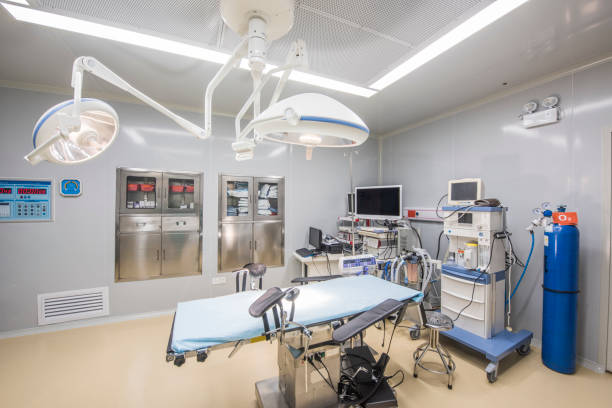bedside_monitor: (354, 185, 403, 219), (447, 182, 485, 208)
breathing_tube: (390, 248, 433, 295)
cabinet: (114, 171, 203, 283), (217, 173, 290, 266)
handle: (157, 250, 159, 260), (163, 250, 165, 260), (249, 240, 251, 250), (255, 240, 257, 250)
medical_drawer: (442, 274, 502, 331)
operating_bed: (165, 263, 425, 408)
surgical_light: (254, 92, 369, 148), (25, 99, 119, 166)
ventilator: (418, 209, 513, 276)
